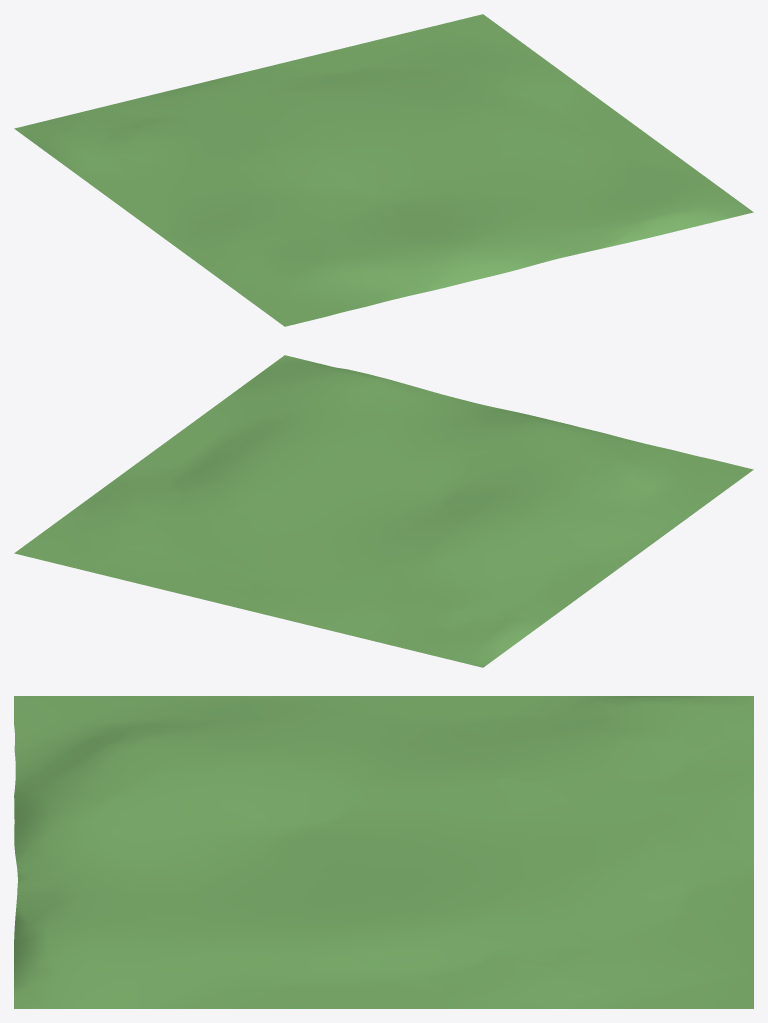
The model's file is SM_Terrain_02.obj.
3 views of the same model, one above another, from view 1: azimuth 30°, elevation 25°; view 2: azimuth 150°, elevation 25°; view 3: azimuth 270°, elevation 25° (orthographic). The views are drawn at different scales.
Visible parts, largest first — view 1: SM_Terrain_02; view 2: SM_Terrain_02; view 3: SM_Terrain_02.
Part boxes in pixels (box(x1,y1,x2,y2)): SM_Terrain_02: box(14, 14, 753, 326); SM_Terrain_02: box(14, 355, 753, 667); SM_Terrain_02: box(14, 696, 753, 1008).
Size of the model in its own units: 10.89 by 0.2845 by 10.89.
1 material, 1 textured.
